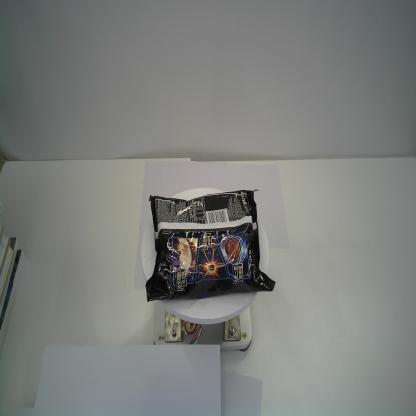Instant Noodles: (145, 188, 276, 303)
